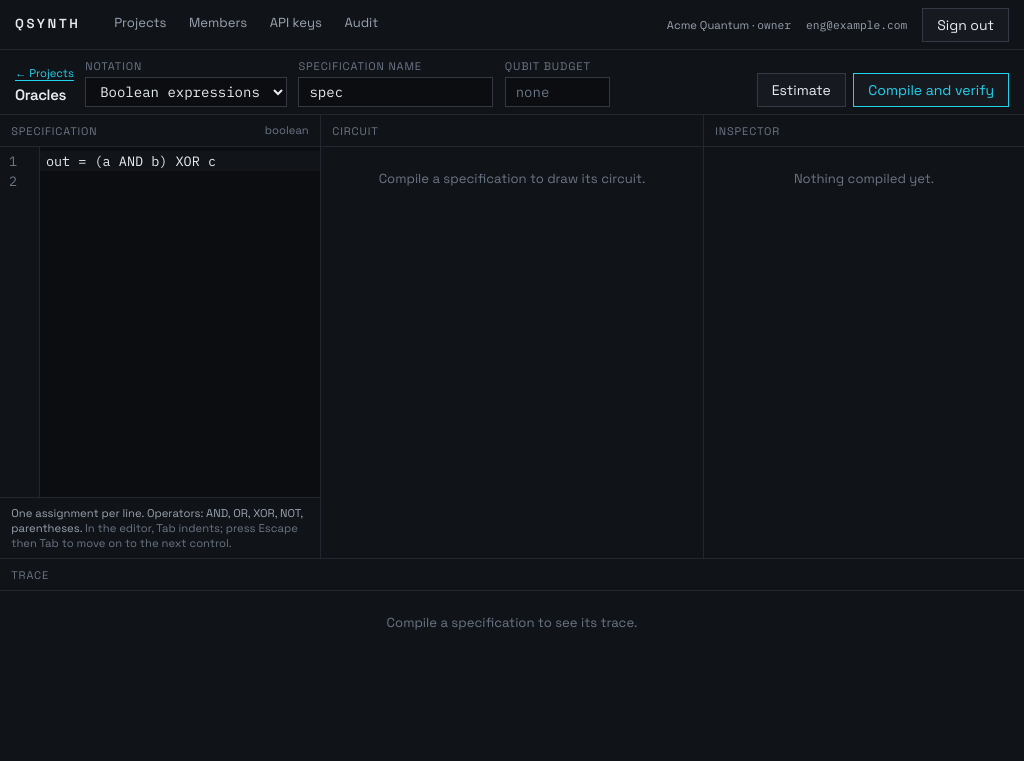
Test: the workbench › shows a verified compile with its coverage
Expected: the heading "Oracles" is shown, [15,84,74,107]
What coordinates should you click on to do the following:
click the button "Compile and verify"
I would click on:
 (931, 90)
Its box is [853,73,1009,107].
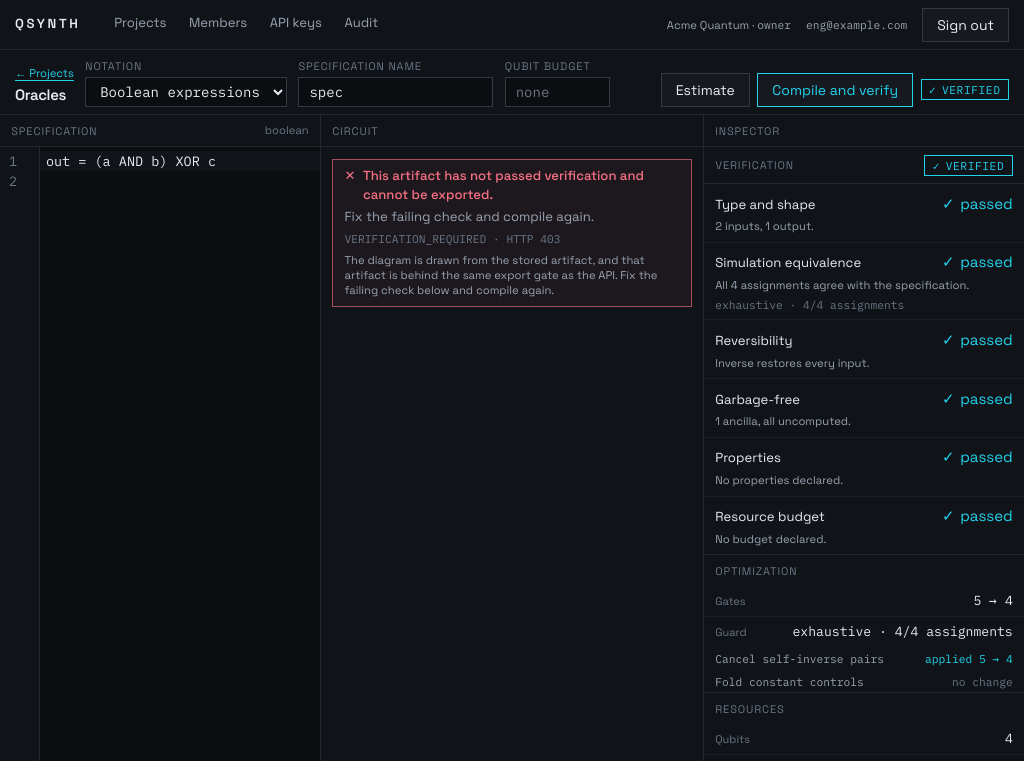
Expected: the text "verified" in the row of "Oracles" is shown, [942,82,1000,97]
Expected: the text "exhaustive · 4/4 assignments" below "Simulation equivalence" is shown, [715,297,904,312]
